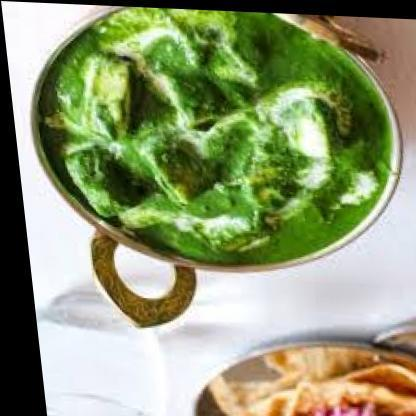palak_paneer: (30, 1, 400, 268)
